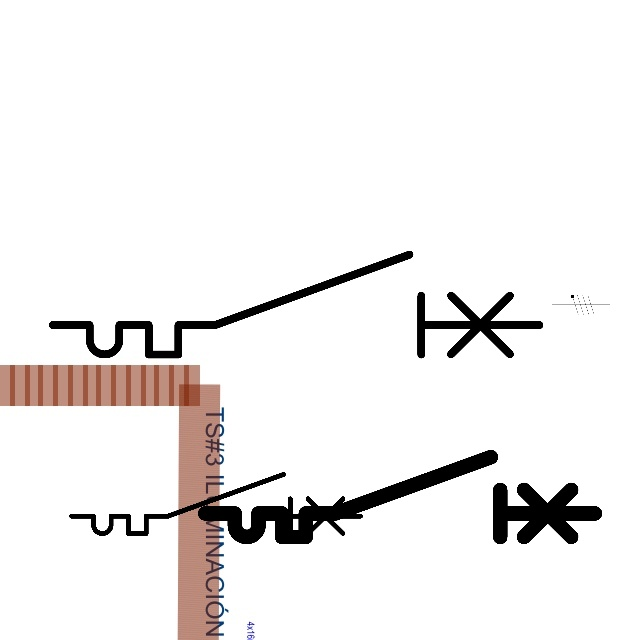interruptor_termomagnetico: (40, 242, 552, 367), (195, 447, 604, 547), (64, 467, 368, 541)
